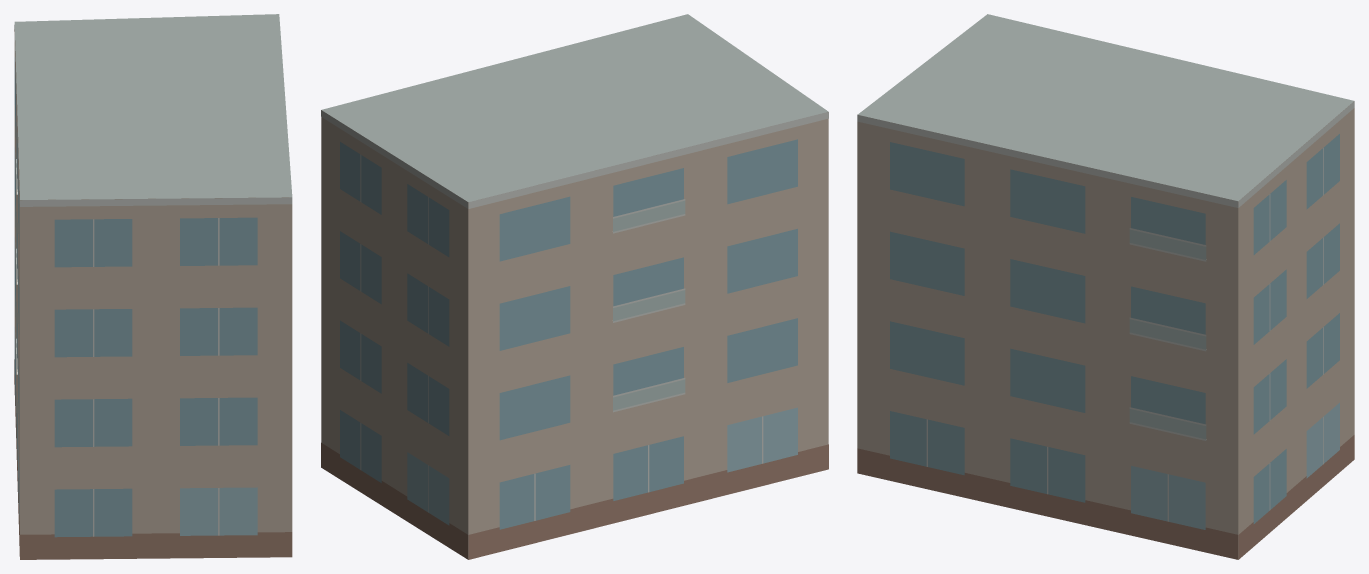
Rendered from survey-upis-32676909.glb.
The picture shows the model from 3 angles, left to right: view 1: azimuth 30°, elevation 25°; view 2: azimuth 150°, elevation 25°; view 3: azimuth 270°, elevation 25°; orthographic projection.
Visible parts, largest first — view 1: survey-upis-32676909.tmp; view 2: survey-upis-32676909.tmp; view 3: survey-upis-32676909.tmp.
Boxes of the visible parts, x1,y1,x2,y2 form: survey-upis-32676909.tmp: (14, 14, 292, 559); survey-upis-32676909.tmp: (321, 14, 828, 559); survey-upis-32676909.tmp: (857, 14, 1354, 559).
Size of the model in its own units: 14.29 by 12.75 by 16.03.
